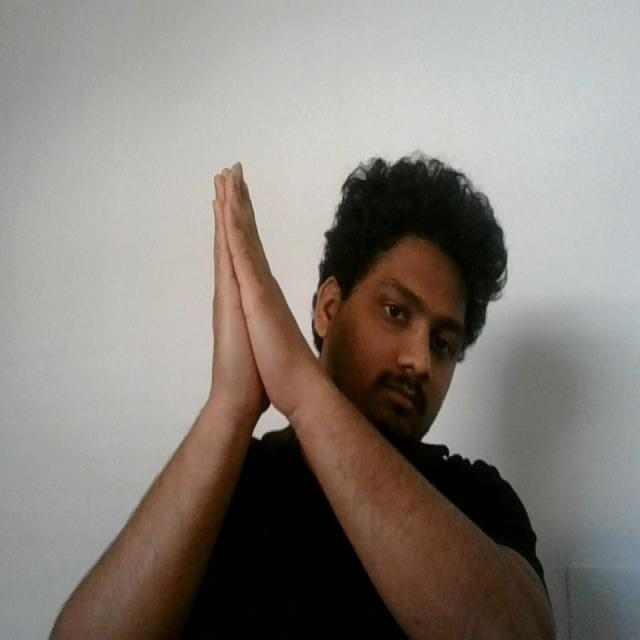Thanks: (195, 152, 320, 438)
